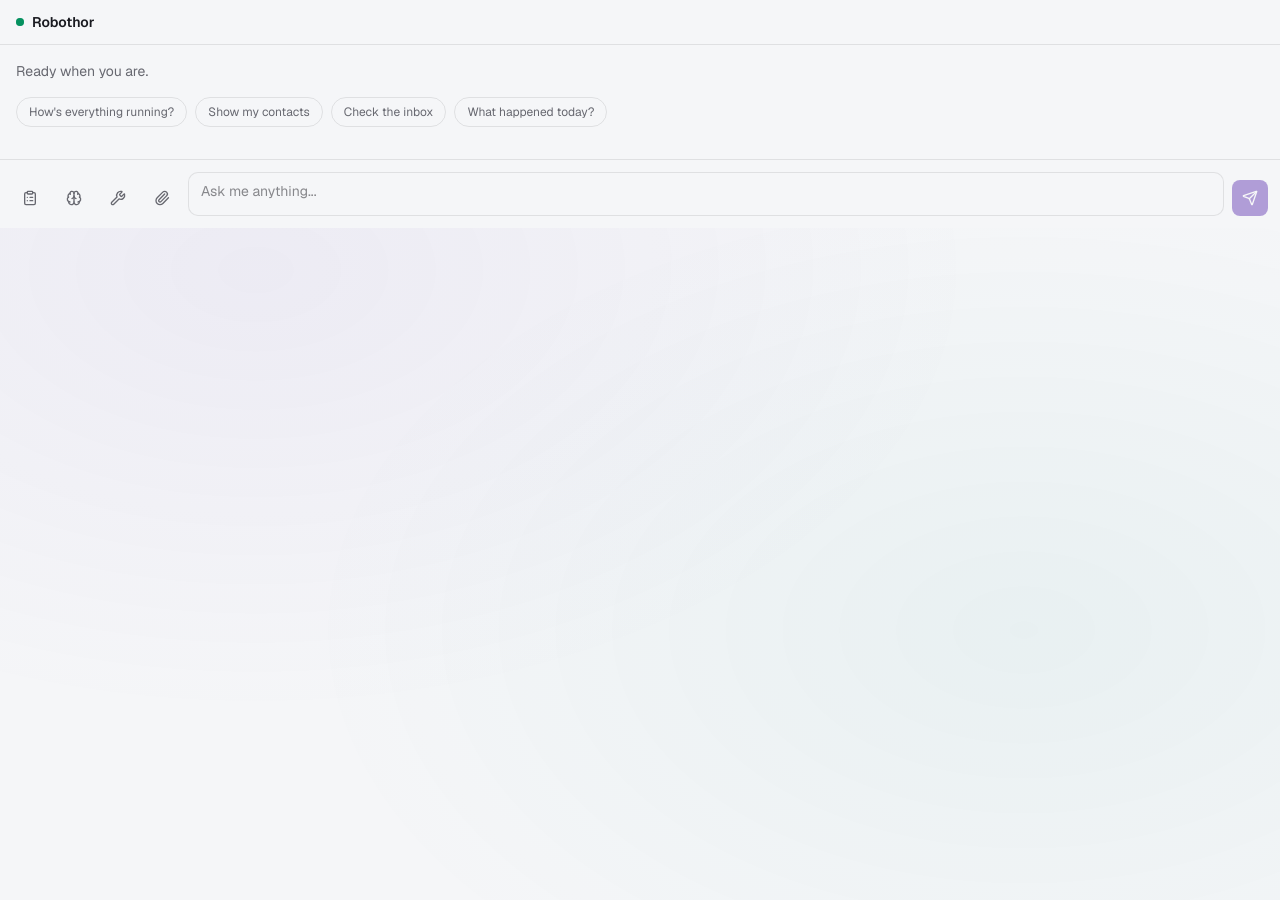
Test: ChatPanel — Plan Mode › plan toggle button renders and toggles amber styling
Note: Toggle on
Step 1. Click the button with test id "plan-toggle" → (30, 198), box [12,180,48,216]
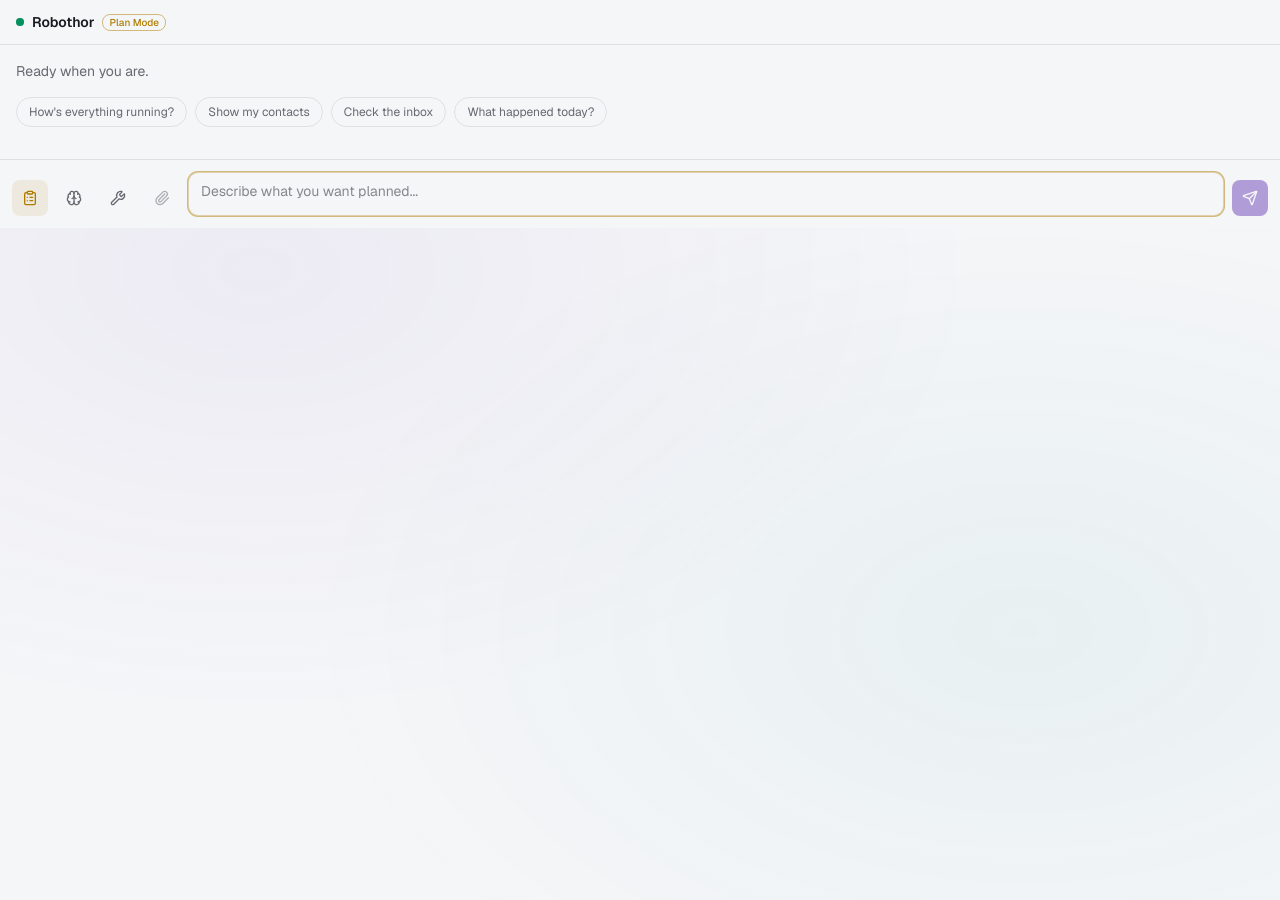
Expected: the text "Plan Mode" is shown, [102,14,166,30]
Expected: the text with test id "plan-mode-badge" reads "Plan Mode", [109,16,159,28]
Note: Toggle off
Step 2. Click the button with test id "plan-toggle" → (30, 198), box [12,180,48,216]
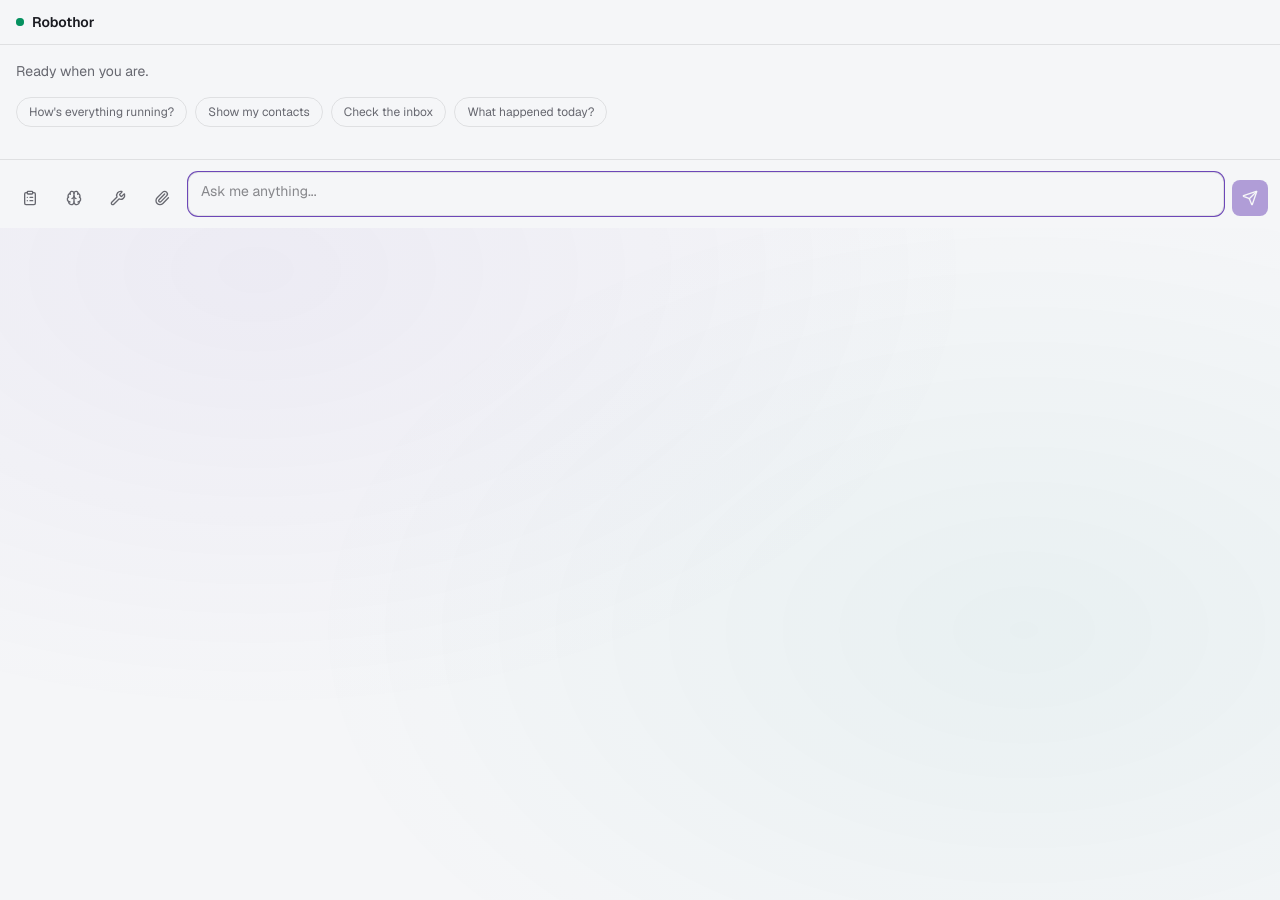
Expected: the text with test id "plan-mode-badge" is gone
